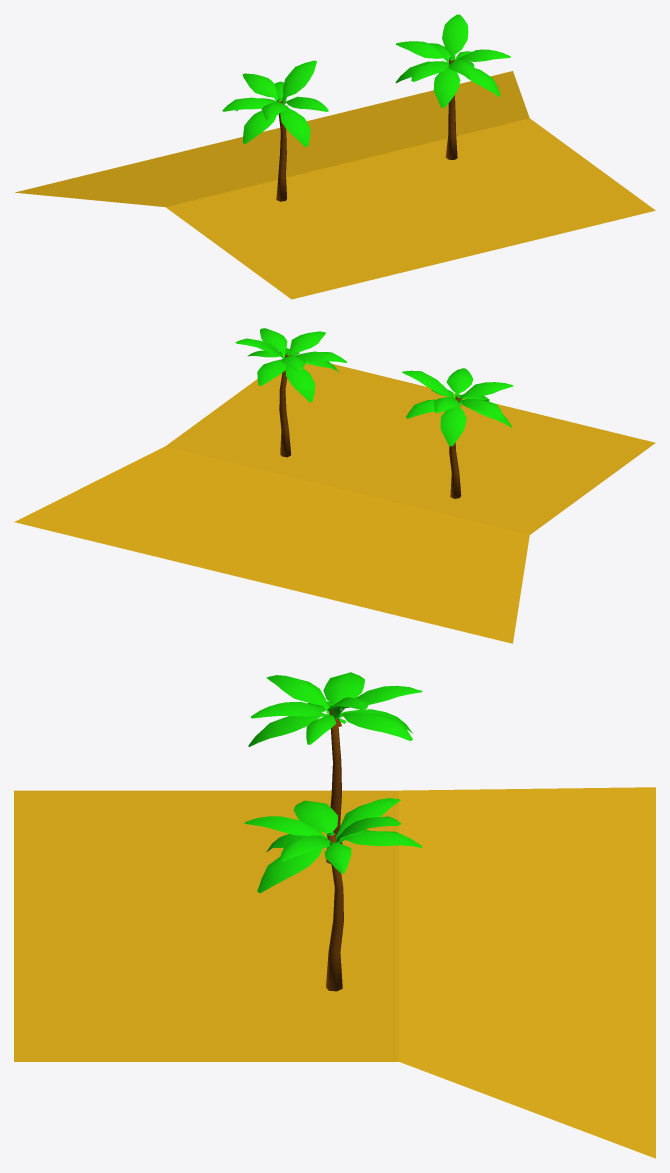
File: palmtree.gltf
The picture shows the model from 3 angles, top to bottom: view 1: azimuth 30°, elevation 25°; view 2: azimuth 150°, elevation 25°; view 3: azimuth 270°, elevation 25°; orthographic projection. The views are drawn at different scales.
Parts seen in each view (by area): view 1: Plane, Palm Tree 1.001, Palm Tree 1; view 2: Plane, Palm Tree 1, Palm Tree 1.001; view 3: Plane, Palm Tree 1.001, Palm Tree 1.
Boxes of the visible parts, box(x1,y1,x2,y2) form: Plane: box(15, 71, 655, 299); Palm Tree 1.001: box(395, 14, 510, 159); Palm Tree 1: box(222, 60, 328, 201); Plane: box(14, 355, 655, 643); Palm Tree 1: box(402, 368, 513, 498); Palm Tree 1.001: box(235, 328, 346, 457); Plane: box(14, 787, 655, 1158); Palm Tree 1.001: box(244, 798, 422, 991); Palm Tree 1: box(248, 672, 422, 863).
Bounding box in the file's own units: 30.53 × 8.92 × 22.29.
